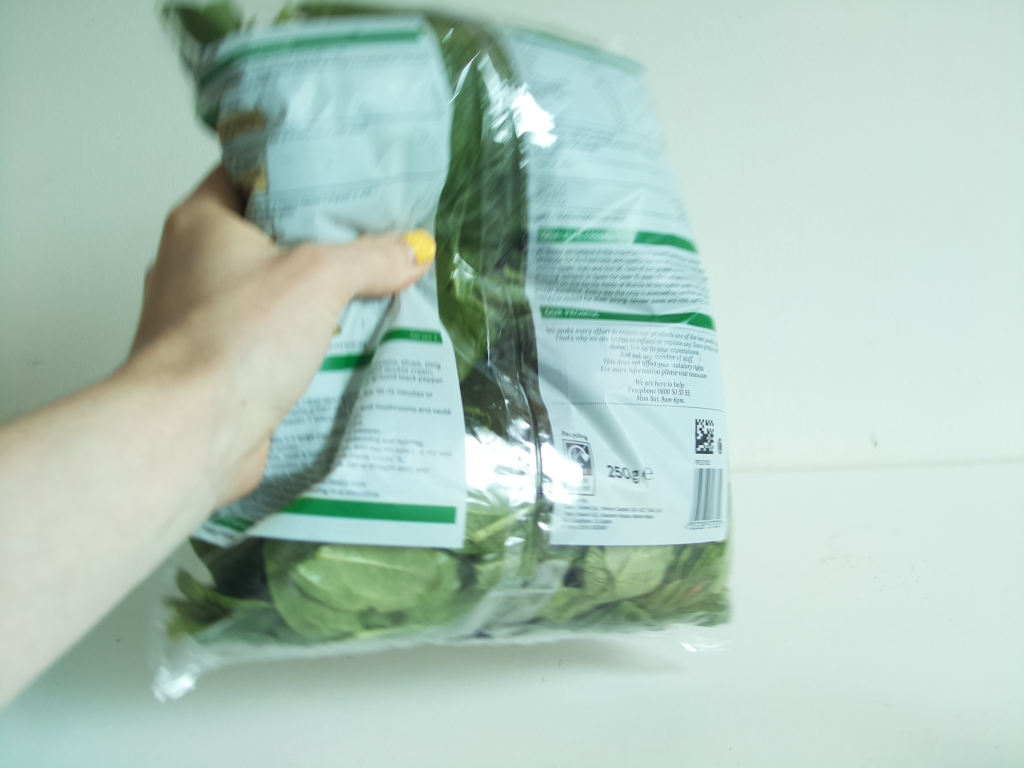salad: (166, 3, 736, 661)
